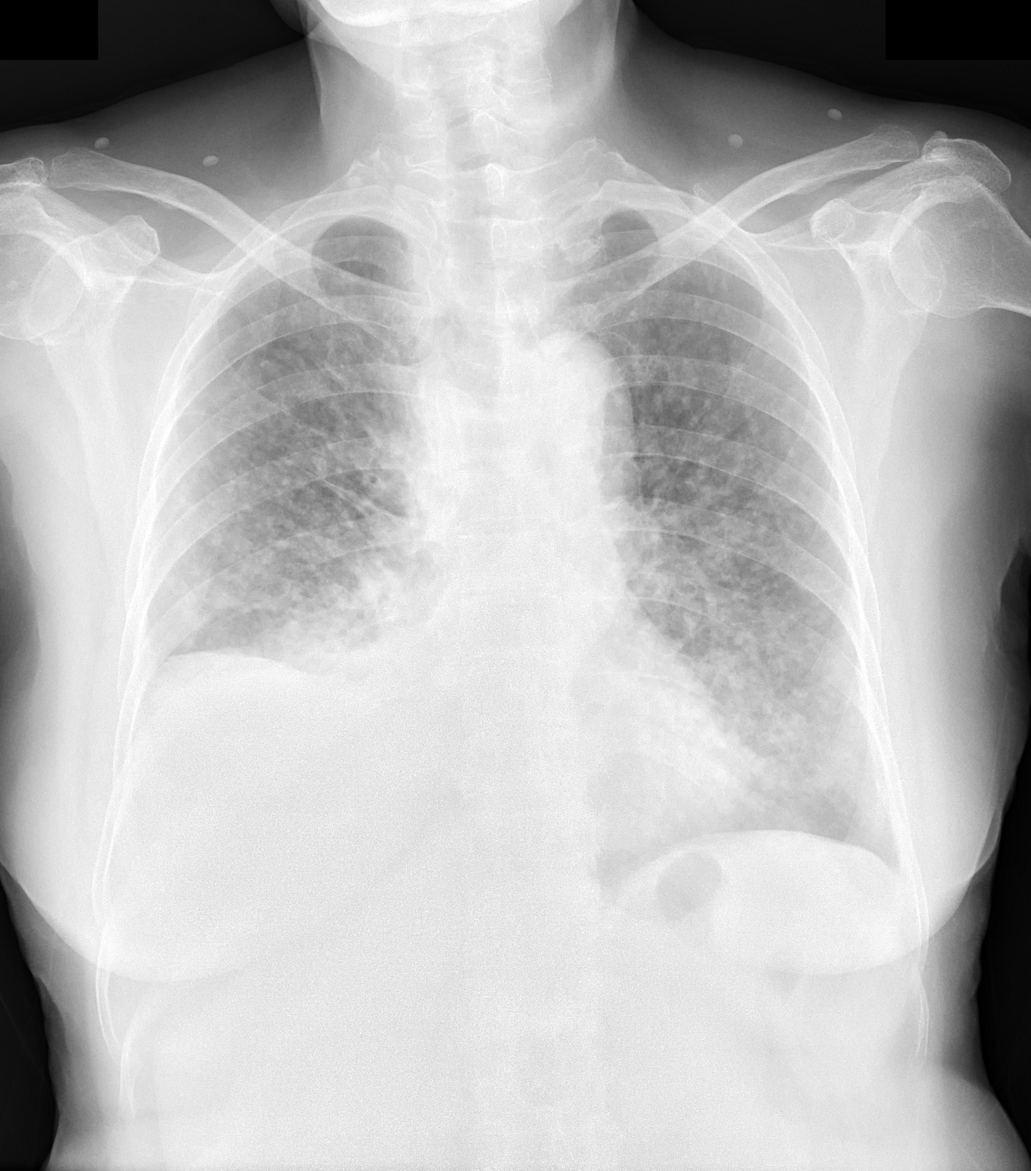Aortic enlargement: (493, 332, 638, 482)
Cardiomegaly: (372, 631, 758, 859)
Pleural thickening: (128, 614, 166, 730)
Pulmonary fibrosis: (274, 455, 421, 544)
